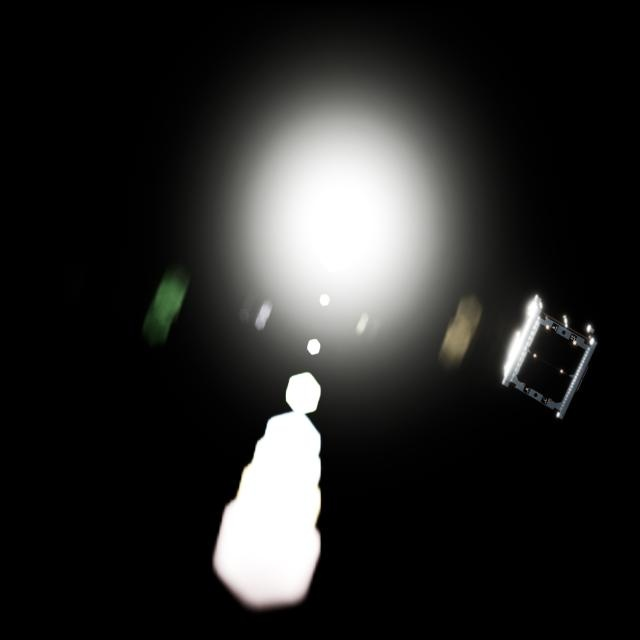medium_debris: (489, 291, 600, 425)
